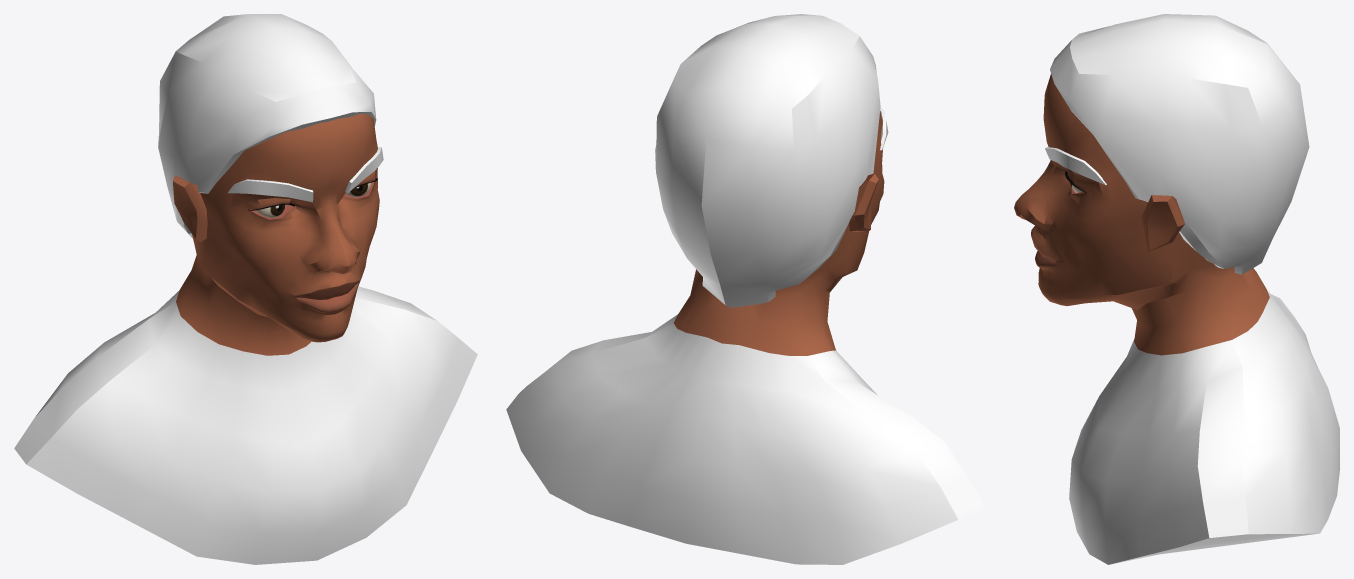
File: Male_Avatar_2.fbx
3 renders of one model, left to right at view 1: azimuth 30°, elevation 25°; view 2: azimuth 150°, elevation 25°; view 3: azimuth 270°, elevation 25°, orthographic. The views are drawn at different scales.
Visible parts, largest first — view 1: Male Head.001, Male Hair.002, Eyebrow.003; view 2: Male Head.001, Male Hair.002; view 3: Male Head.001, Male Hair.002, Eyebrow.003.
Part boxes in pixels (x1,y1,x2,y2): Male Head.001: (14,113,477,564); Male Hair.002: (158,14,376,238); Eyebrow.003: (228,147,383,202); Male Head.001: (506,111,985,564); Male Hair.002: (655,14,880,307); Male Head.001: (1014,74,1339,564); Male Hair.002: (1050,14,1309,274); Eyebrow.003: (1045,147,1106,184).
Size of the model in its own units: 51.65 by 54.74 by 31.58.
3 materials, 1 textured.
